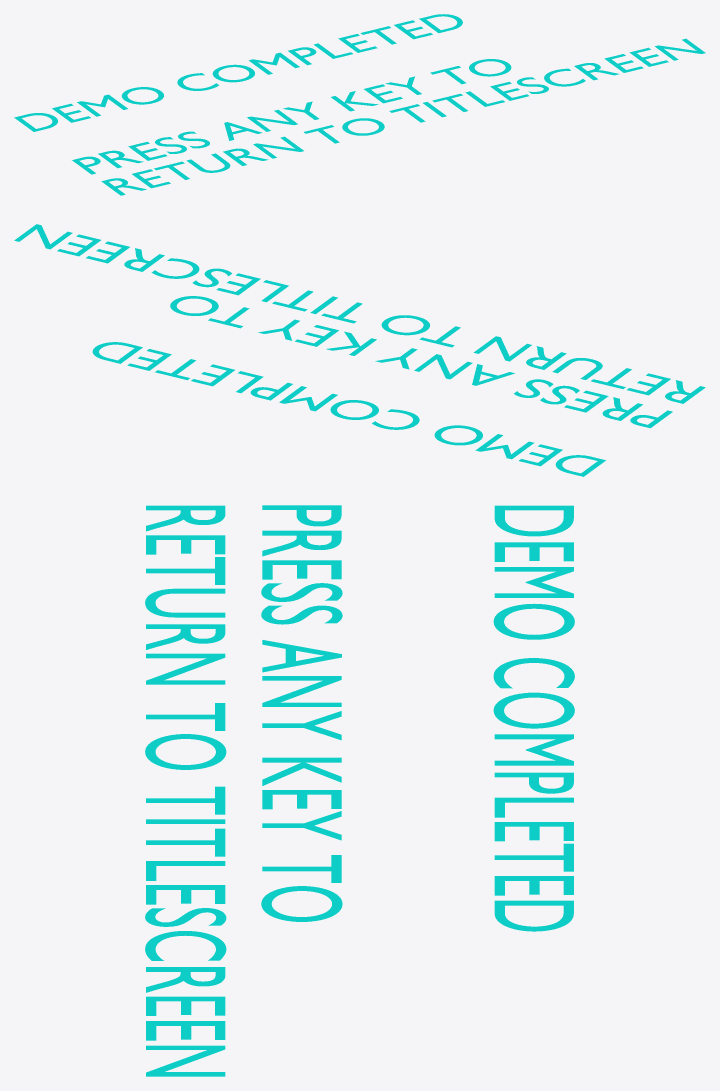
File: demoComplete.fbx
3 renders of one model, top to bottom at view 1: azimuth 30°, elevation 25°; view 2: azimuth 150°, elevation 25°; view 3: azimuth 270°, elevation 25°, orthographic. The views are drawn at different scales.
Visible parts, largest first — view 1: Text; view 2: Text; view 3: Text.
Part boxes in pixels (x1=…): Text: x1=14, y1=14, x2=705, y2=195; Text: x1=14, y1=224, x2=705, y2=476; Text: x1=145, y1=505, x2=574, y2=1076.
Bounding box in the file's own units: 1164 × 6.03e-05 × 370.
